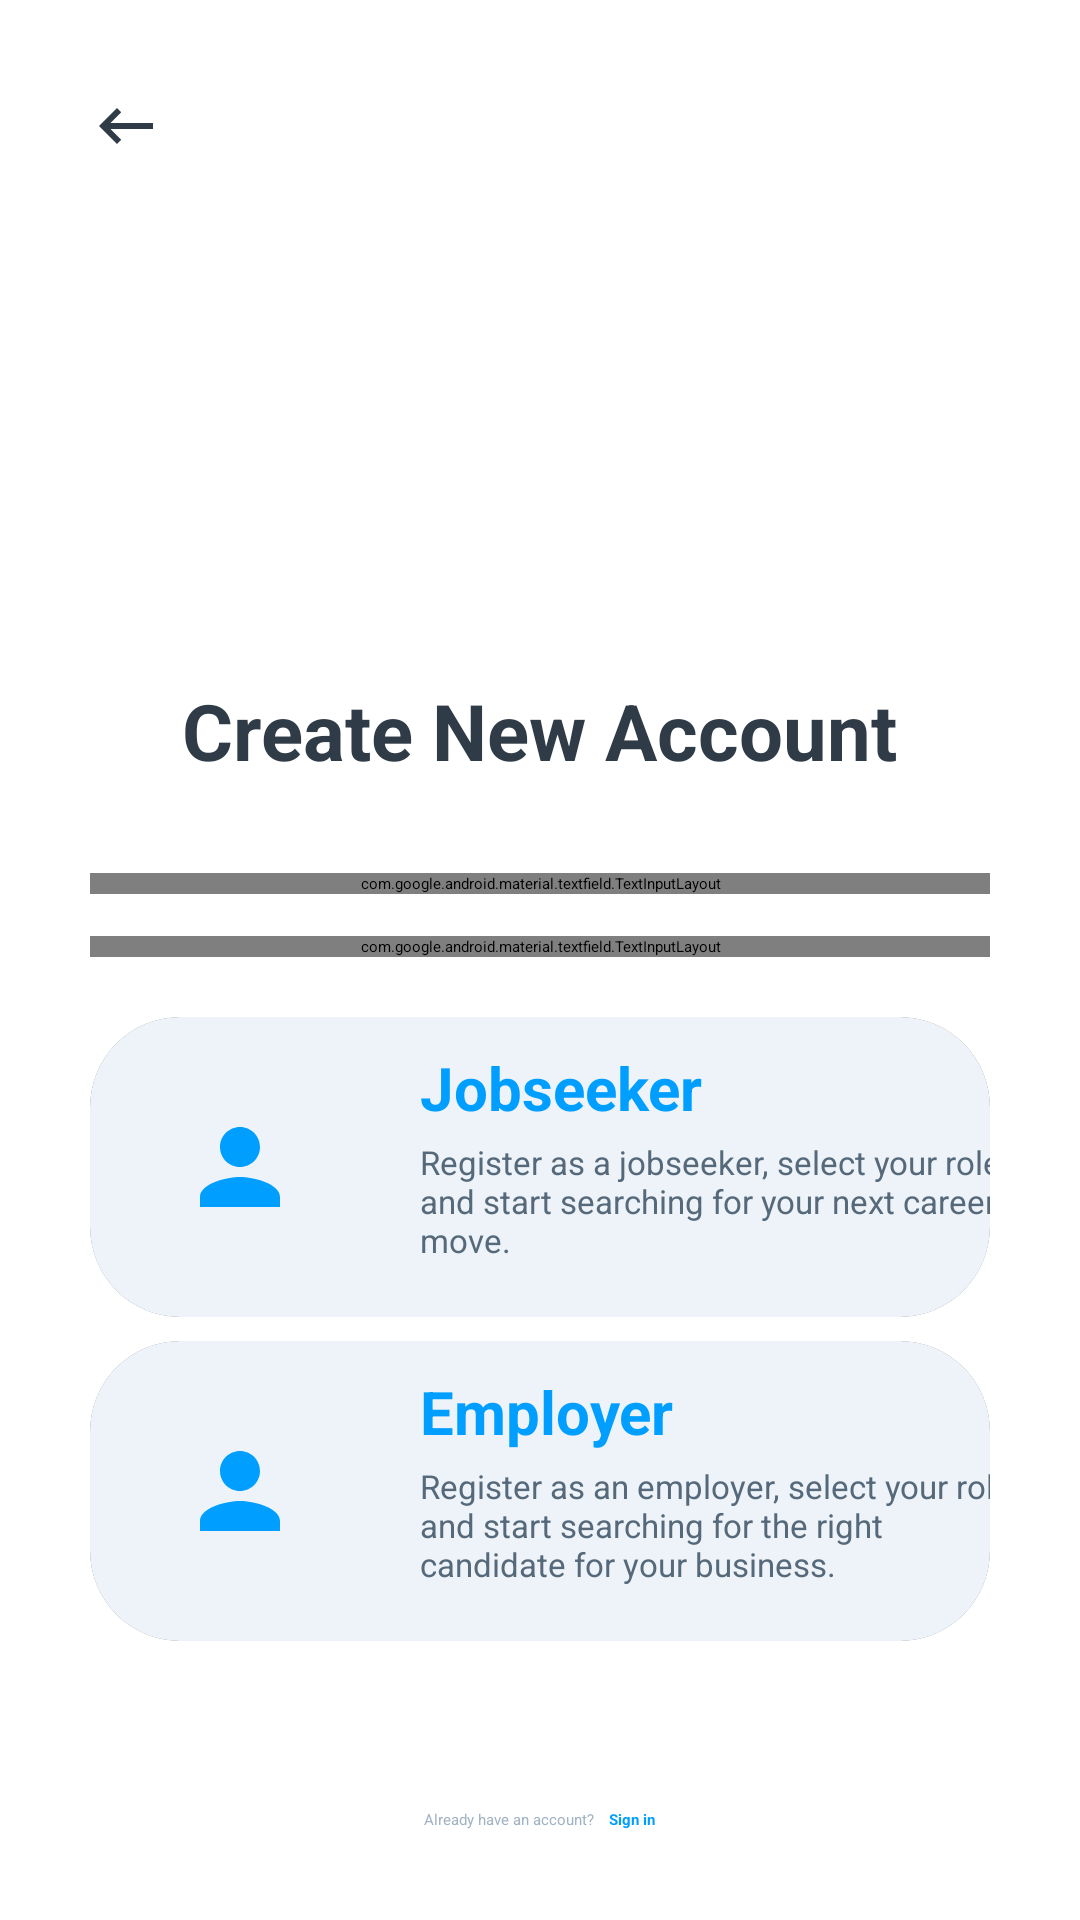

Icons on this 1080x1920 Android screen, each with its box as bbox(x1, y1, x2, y2):
keyboard backspace: bbox(99, 108, 153, 144)
person: bbox(200, 1127, 280, 1207), bbox(200, 1451, 280, 1531)
